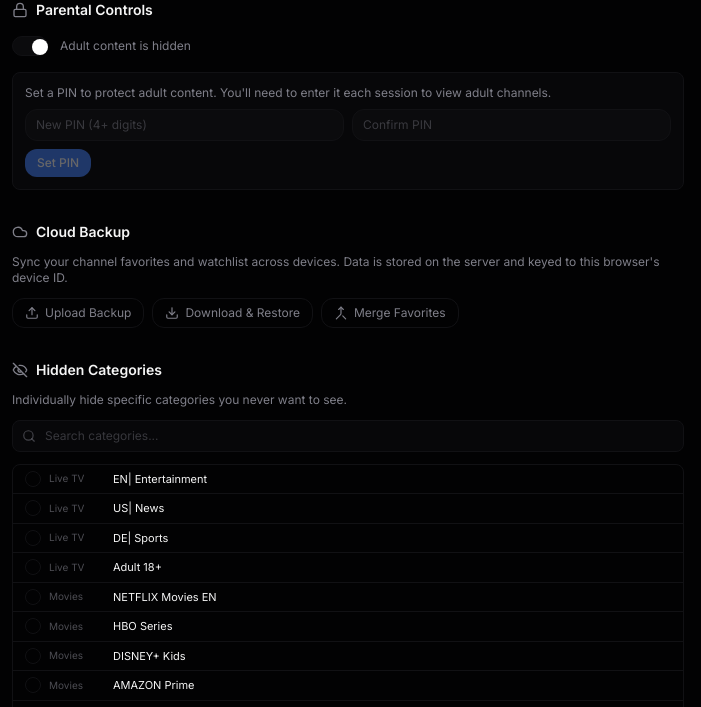
Scenario: hidden categories section › shows 'No categories found' when search has no matches
The image size is (701, 707).
(page scrolled)
Type "XYZZZZ" into the field with placeholder "Search categories..." at (348, 436), box [12,420,684,452]
(page scrolled)
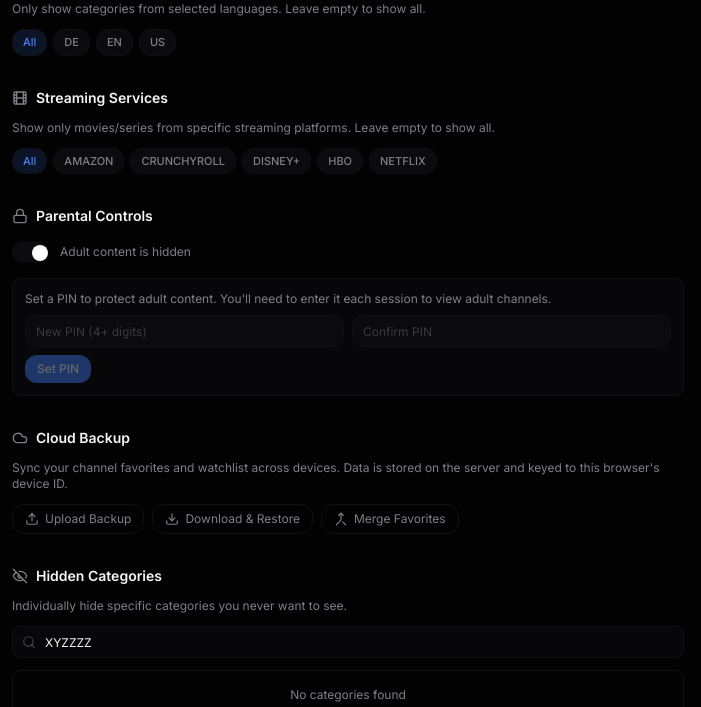
Expected: the text "No categories found" is shown, [290,687,406,702]
